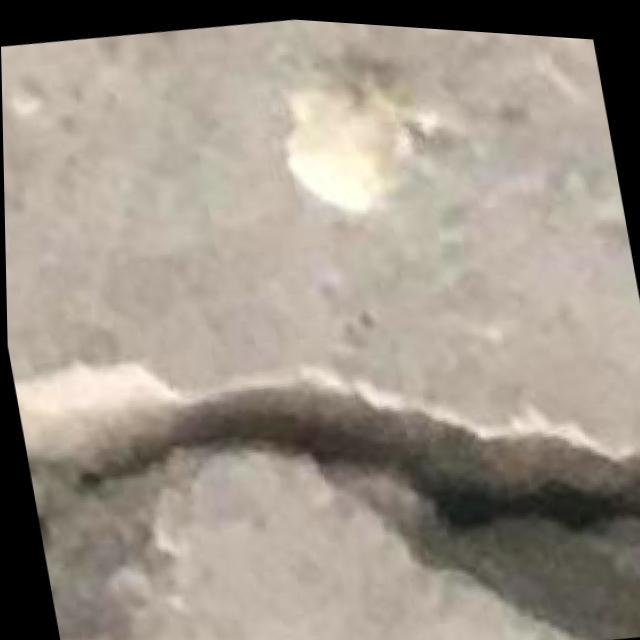Crack: (8, 252, 640, 640)
